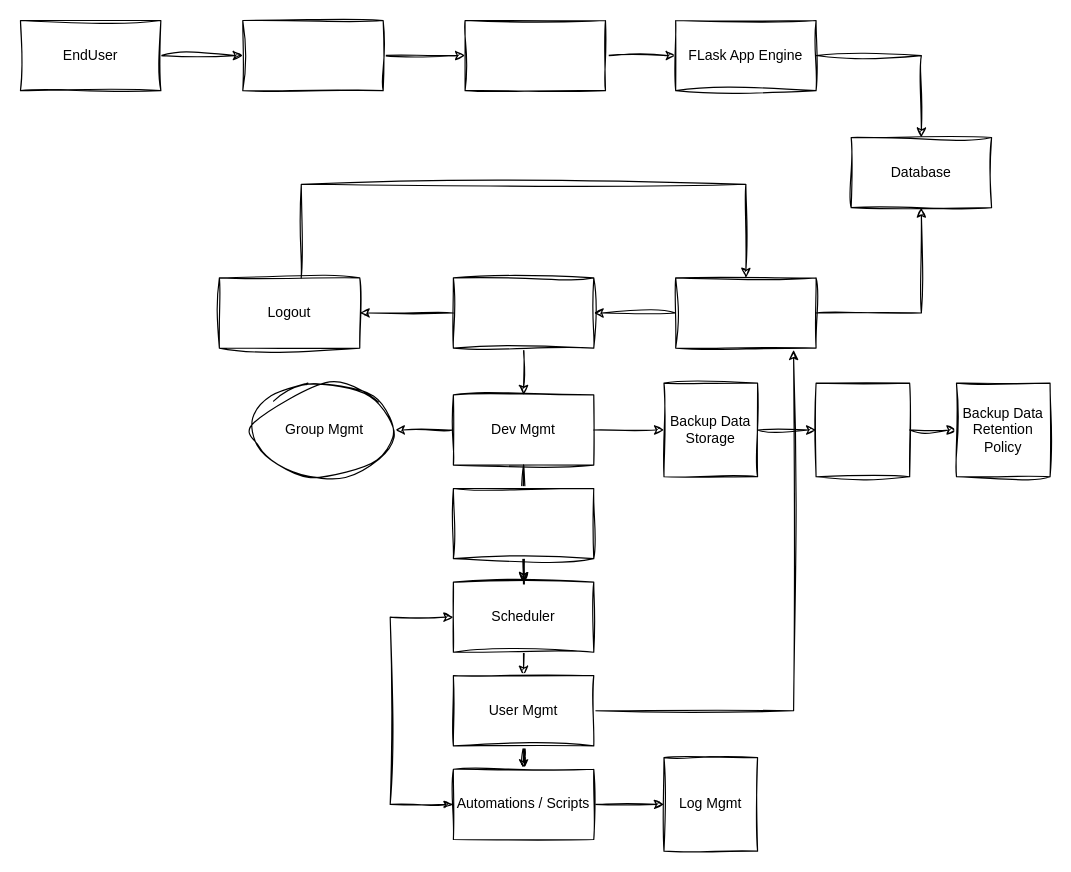
Some shapes in this 1071 by 872 pixel diagram are drawn without their labels. Here are the shapes that lost their labels. From the top down, the box of each, then its label:
(242, 19, 383, 91): ALB/LB/Proxy
(464, 19, 605, 91): Gunicorn
(452, 277, 594, 348): Landing Page
(675, 277, 816, 348): Login Page
(815, 382, 910, 477): Backup Data Access
(452, 487, 594, 559): Type Mgmt
